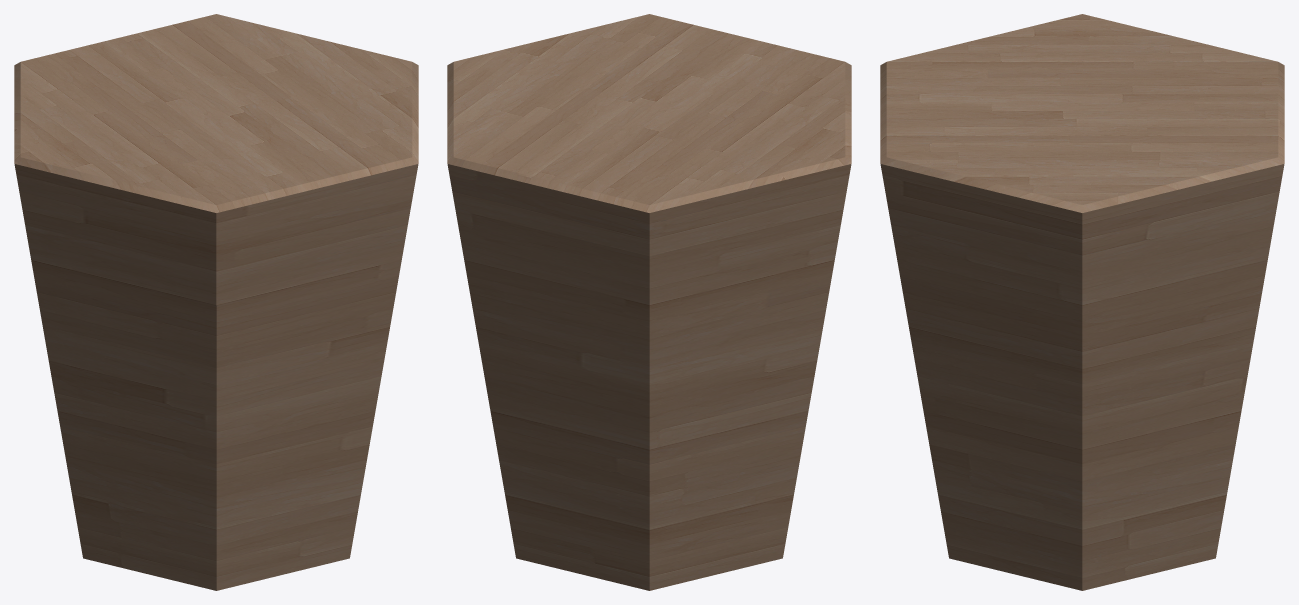
Rendered from D_Bench_009_a.fbx.
3 views of the same model, side by side, from view 1: azimuth 30°, elevation 25°; view 2: azimuth 150°, elevation 25°; view 3: azimuth 270°, elevation 25° (orthographic).
Parts seen in each view (by area): view 1: D_Bench_009_a; view 2: D_Bench_009_a; view 3: D_Bench_009_a.
Boxes of the visible parts, bbox=[...] form: D_Bench_009_a: bbox=[14, 14, 418, 590]; D_Bench_009_a: bbox=[447, 14, 851, 590]; D_Bench_009_a: bbox=[880, 14, 1284, 590].
Size of the model in its own units: 0.5079 by 0.5 by 0.4399.
Materials: 1 (1 with a texture image).
